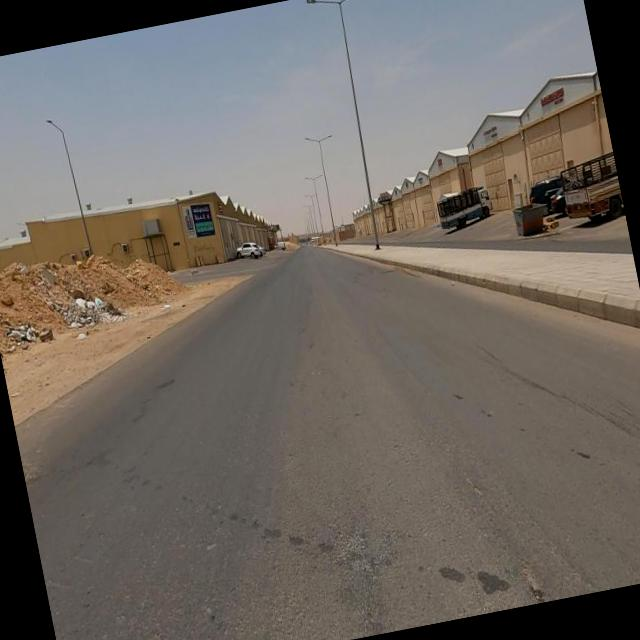debris: (42, 258, 150, 372), (0, 281, 72, 385), (173, 222, 239, 276), (142, 280, 194, 327)
